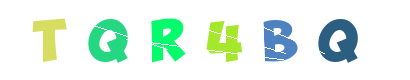4: (184, 0, 264, 80)
B: (238, 0, 318, 80)
Q: (96, 0, 176, 80), (298, 0, 378, 80)
R: (165, 0, 245, 80)
T: (25, 0, 105, 80)
